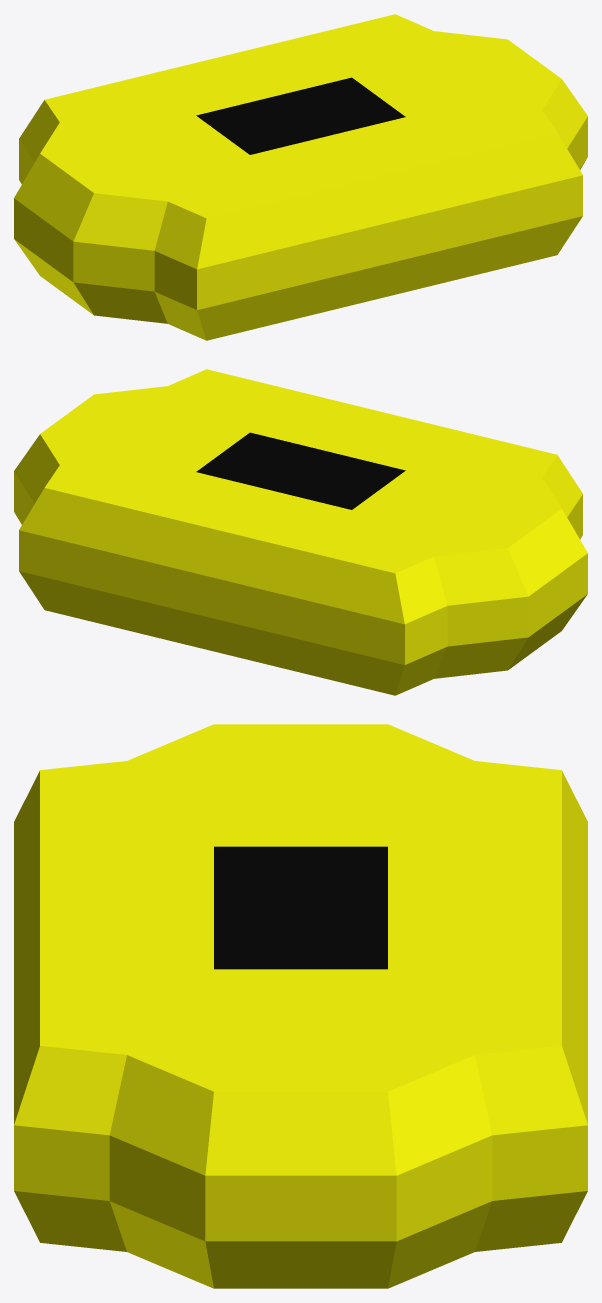
The model's file is Nota_Amarilla.fbx.
3 views of the same model, one above another, from view 1: azimuth 30°, elevation 25°; view 2: azimuth 150°, elevation 25°; view 3: azimuth 270°, elevation 25° (orthographic). The views are drawn at different scales.
Visible parts, largest first — view 1: Nota_Amarilla; view 2: Nota_Amarilla; view 3: Nota_Amarilla.
Boxes of the visible parts, bbox=[...] form: Nota_Amarilla: bbox=[14, 14, 587, 340]; Nota_Amarilla: bbox=[14, 369, 587, 695]; Nota_Amarilla: bbox=[14, 724, 587, 1288].
Size of the model in its own units: 2.2 by 0.5 by 1.32.
